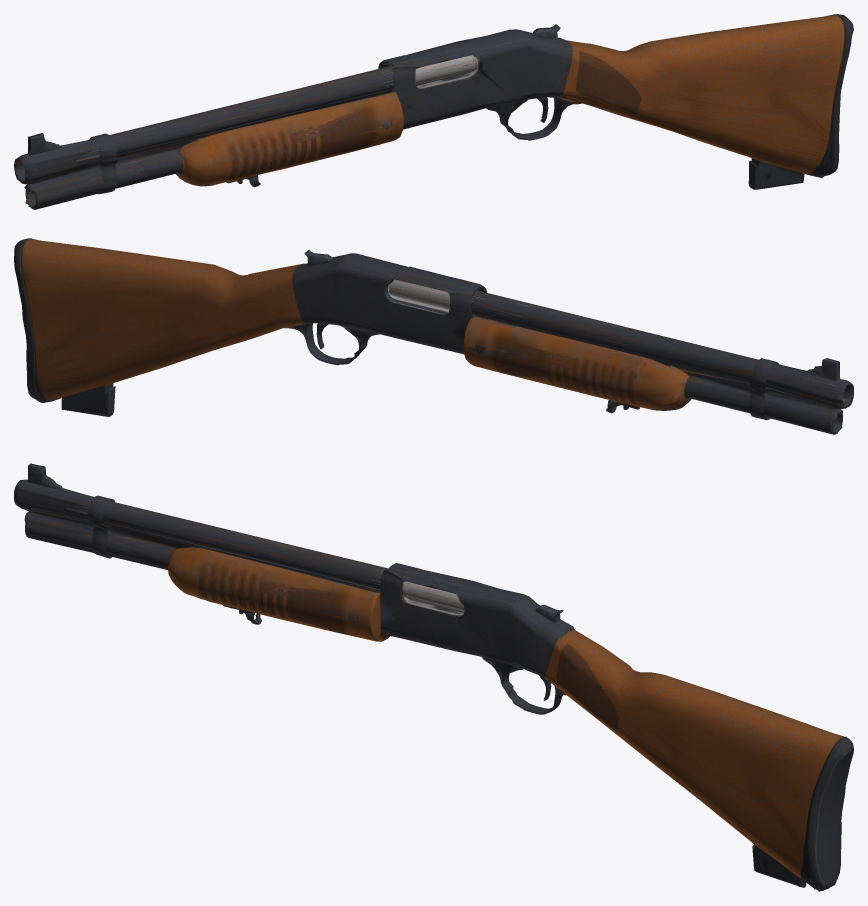
Rendered from wpn_pump_shotgun.glb.
3 renders of one model, top to bottom at view 1: azimuth 30°, elevation 25°; view 2: azimuth 150°, elevation 25°; view 3: azimuth 330°, elevation 25°, orthographic.
Size of the model in its own units: 0.957 by 0.2578 by 0.0693.
Materials: 1 (1 with a texture image).
